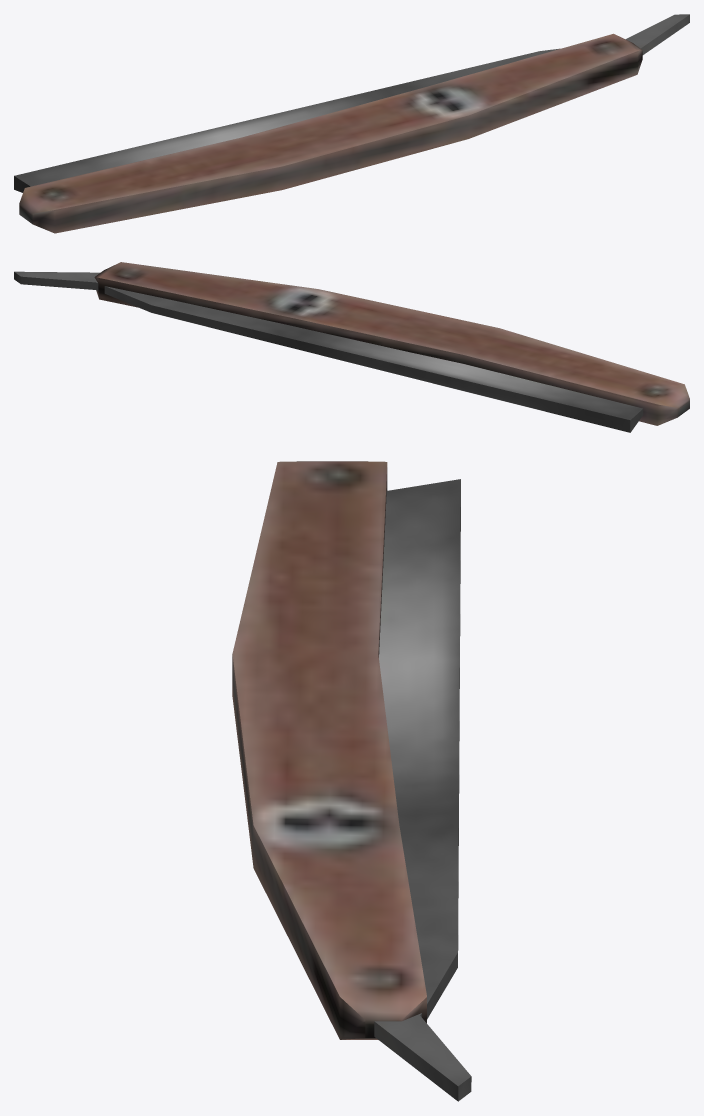
Rendered from shop_barber_straightRazorClosed.fbx.
The picture shows the model from 3 angles, top to bottom: view 1: azimuth 30°, elevation 25°; view 2: azimuth 150°, elevation 25°; view 3: azimuth 270°, elevation 25°; orthographic projection. The views are drawn at different scales.
Parts seen in each view (by area): view 1: razor_handle, razor_blade; view 2: razor_handle, razor_blade; view 3: razor_handle, razor_blade.
Part boxes in pixels (box(x1,y1,x2,y2)): razor_handle: box(19, 33, 642, 233); razor_blade: box(14, 14, 689, 192); razor_handle: box(94, 262, 689, 425); razor_blade: box(14, 271, 643, 432); razor_handle: box(232, 461, 426, 1039); razor_blade: box(374, 479, 471, 1101).
Size of the model in its own units: 33.67 by 1.09 by 5.46.
Materials: 1 (1 with a texture image).
